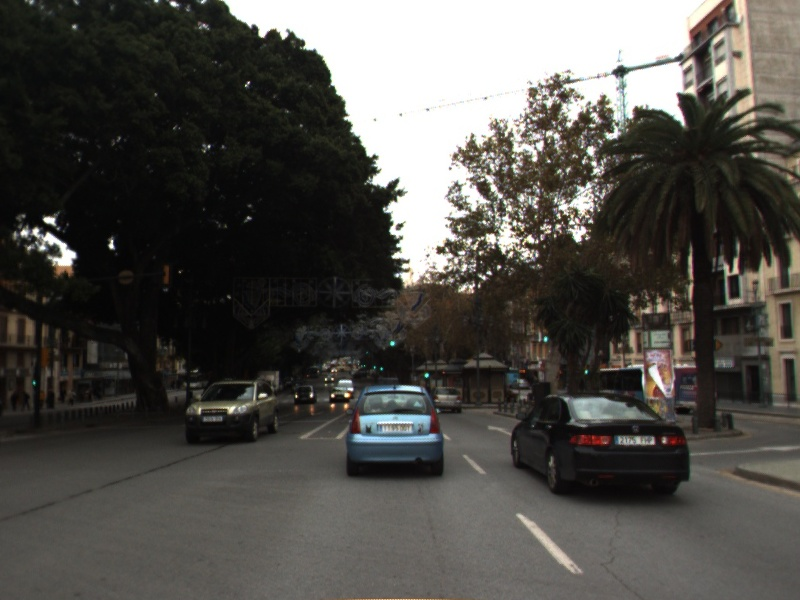STRAIGHT: (486, 423, 514, 437)
